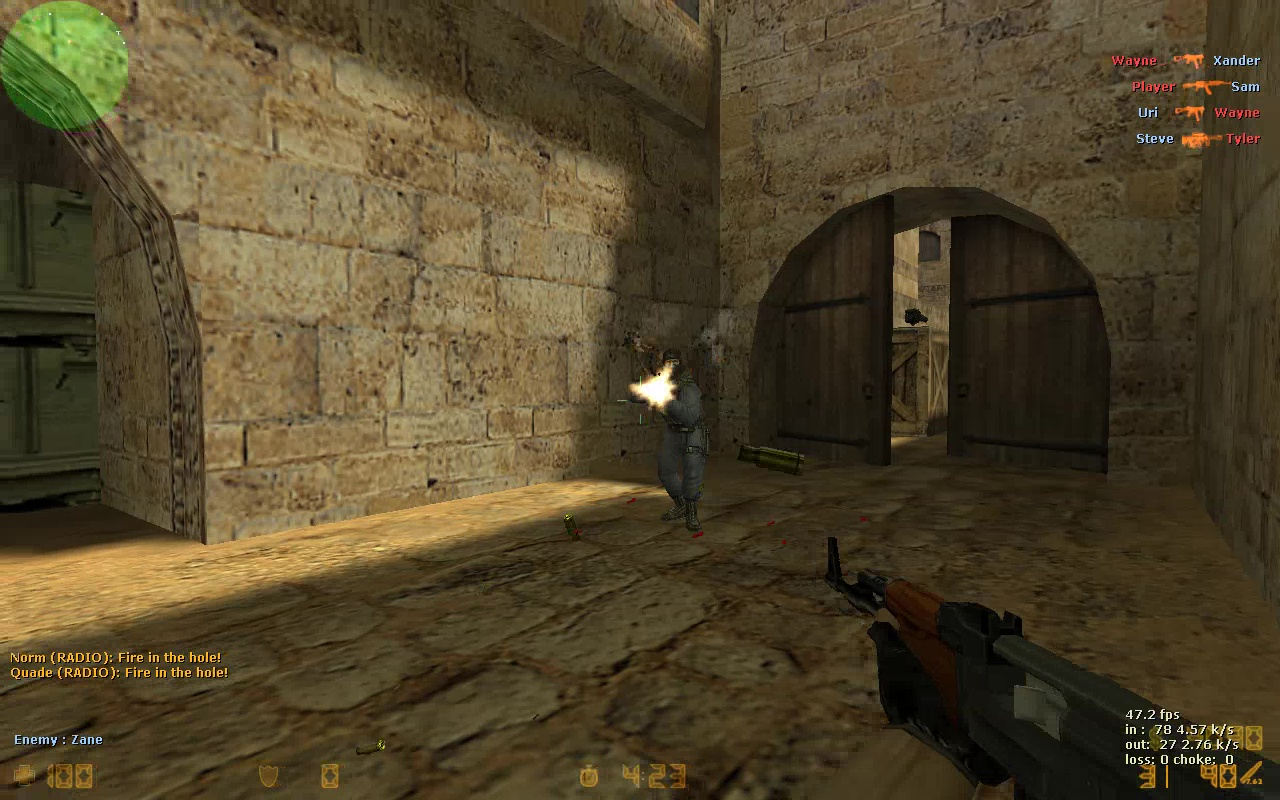ct: (627, 349, 710, 535)
